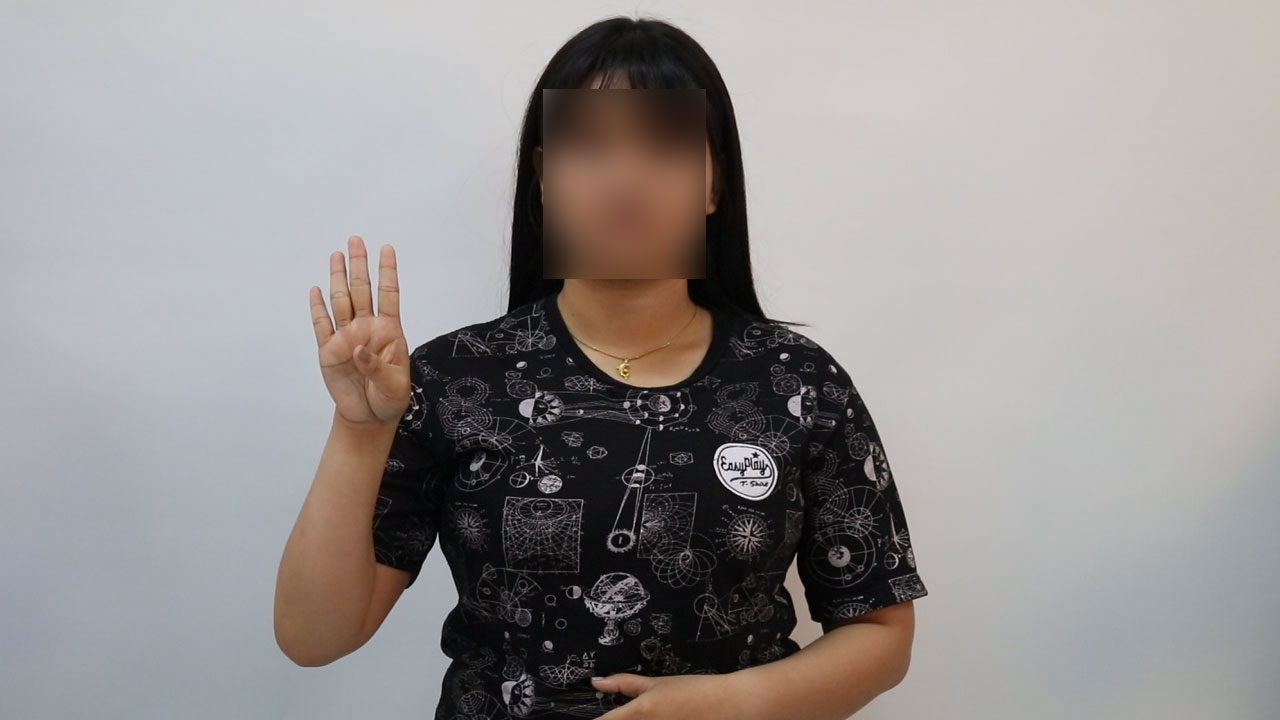bor: (302, 218, 422, 448)
